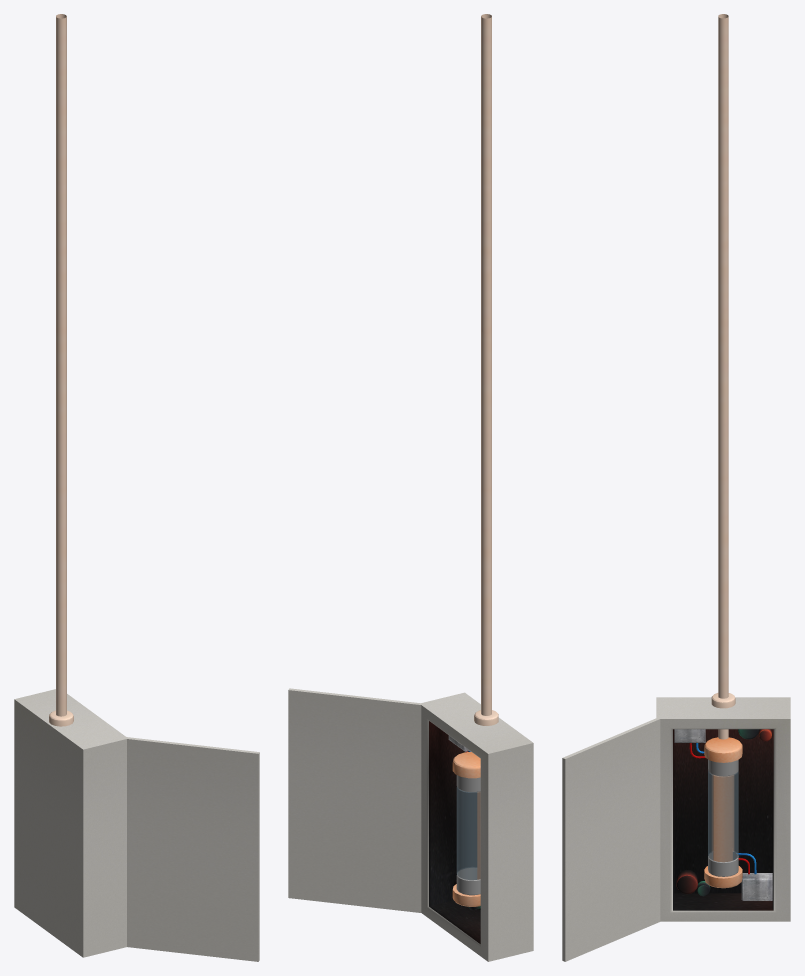
File: Fuse Charge.glb
The picture shows the model from 3 angles, left to right: view 1: azimuth 30°, elevation 25°; view 2: azimuth 210°, elevation 25°; view 3: azimuth 270°, elevation 25°; orthographic projection. The views are drawn at different scales.
Parts seen in each view (by area): view 1: Fuse Box; view 2: Fuse Box, Fuse; view 3: Fuse Box, Fuse.
Boxes of the visible parts, x1,y1,x2,y2 form: Fuse Box: (14, 14, 259, 961); Fuse Box: (288, 14, 533, 961); Fuse: (456, 775, 480, 895); Fuse Box: (562, 14, 790, 961); Fuse: (708, 759, 738, 876).
Size of the model in its own units: 0.2728 by 1.83 by 0.4258.
Materials: 3 (1 with a texture image).
